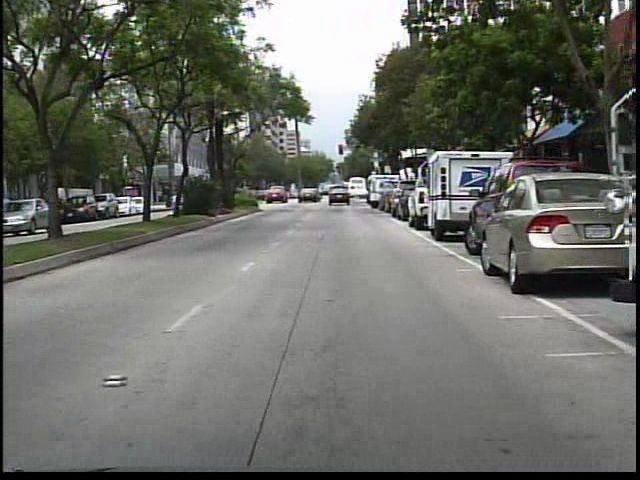person: (327, 183, 340, 203)
